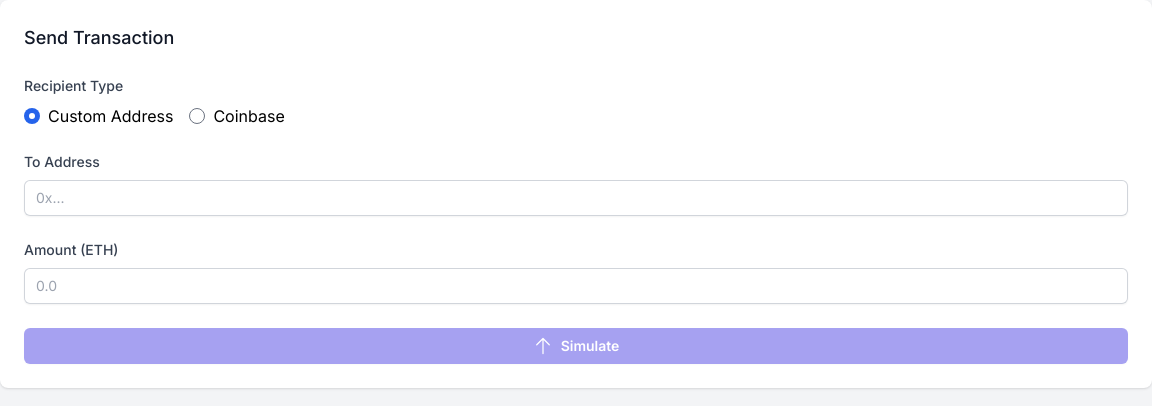
Scenario: TransactionForm › handles Coinbase selection
The image size is (1152, 406).
Click the radio button labelled "Coinbase": (197, 116) [189,108,205,124]
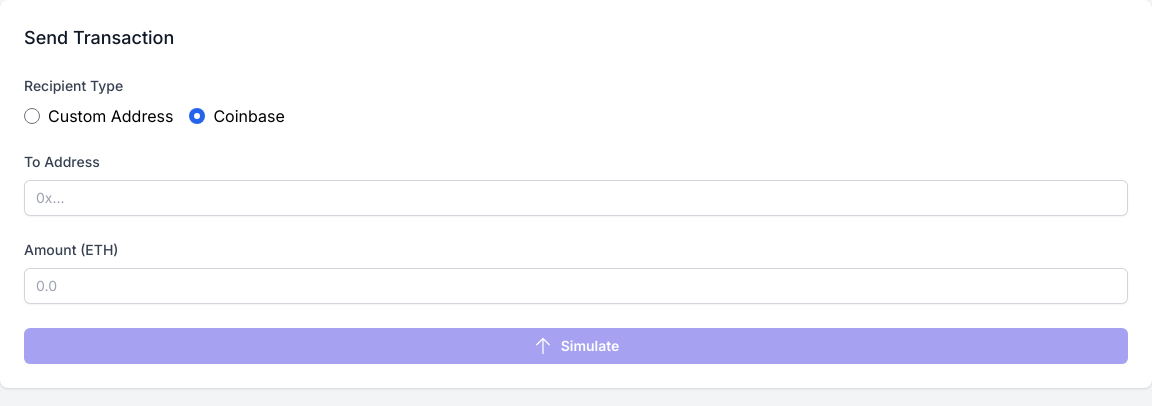
Check: the radio button labelled "Coinbase" is checked, box [189,108,205,124]
Check: the radio button labelled "Custom Address" is not checked, box [24,108,40,124]
